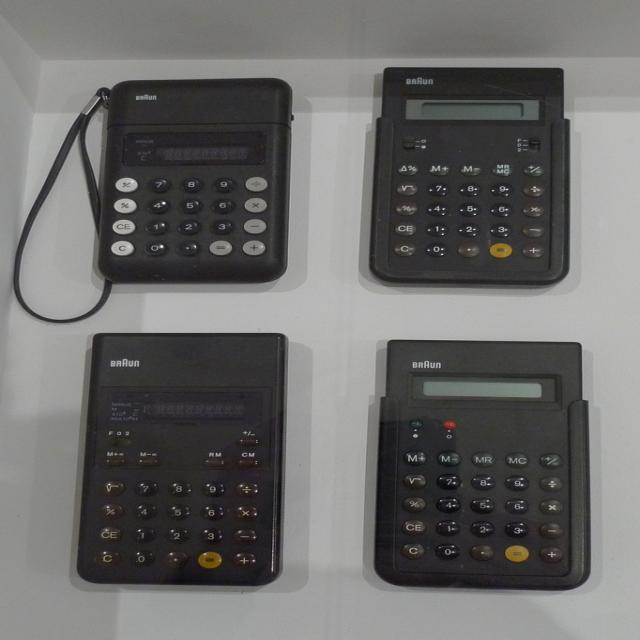Calculator: (9, 74, 293, 326), (75, 333, 292, 590), (375, 340, 595, 590), (368, 66, 574, 288)
